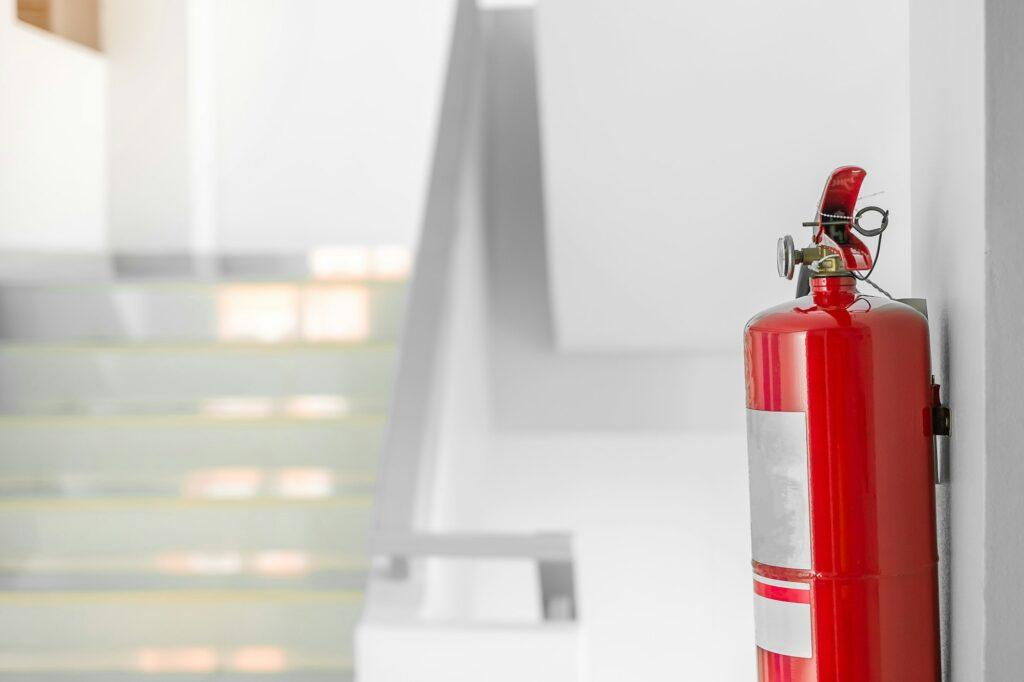wall-mounted: (693, 150, 979, 682)
